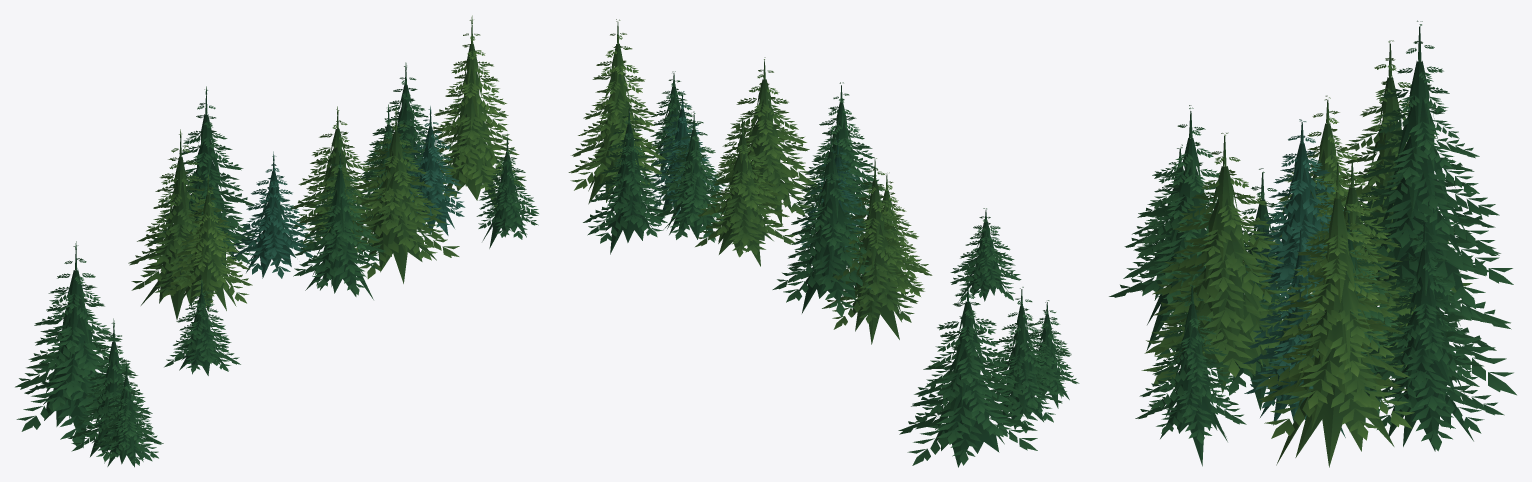
The picture shows the model from 3 angles, left to right: view 1: azimuth 30°, elevation 25°; view 2: azimuth 150°, elevation 25°; view 3: azimuth 270°, elevation 25°; orthographic projection. The views are drawn at different scales.
Parts seen in each view (by area): view 1: pn_1; view 2: pn_1; view 3: pn_1.
Part boxes in pixels (<box>): pn_1: <box>15,15,538,467</box>; pn_1: <box>568,19,1079,467</box>; pn_1: <box>1109,20,1516,467</box>.
Size of the model in its own units: 44.97 by 30.61 by 21.07.
Materials: 1 (1 with a texture image).
